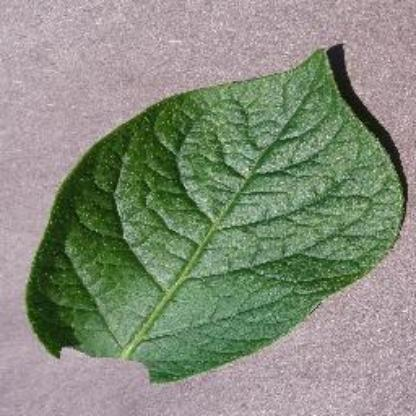Healthy-plant: (22, 44, 409, 390)
